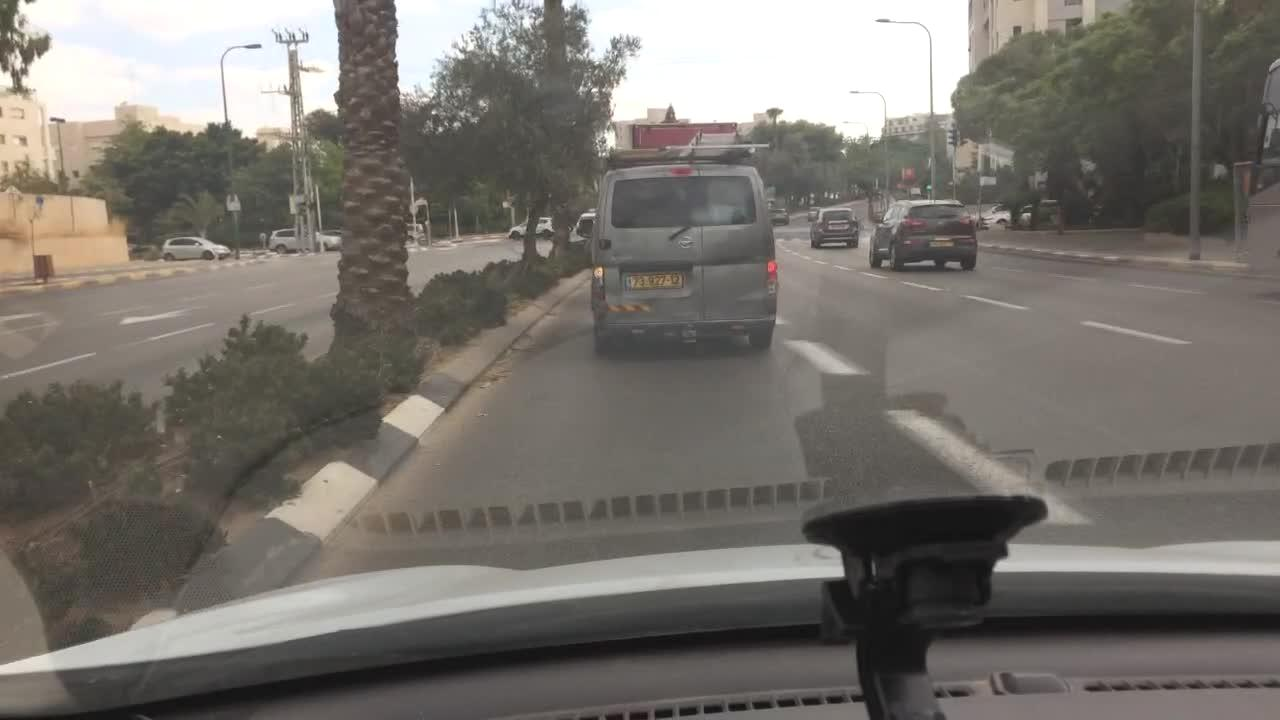Nissan: (675, 231, 697, 253)
